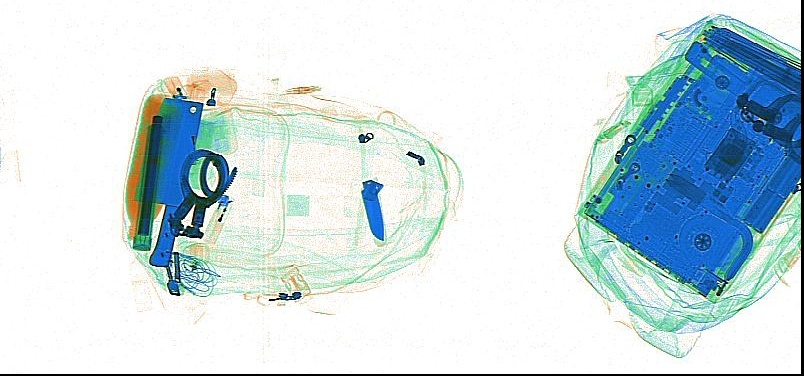handcuffs: (168, 145, 230, 238), (733, 83, 798, 166)
knife: (684, 38, 799, 144), (134, 95, 204, 268), (359, 177, 387, 245)
lighter: (197, 190, 233, 243)
